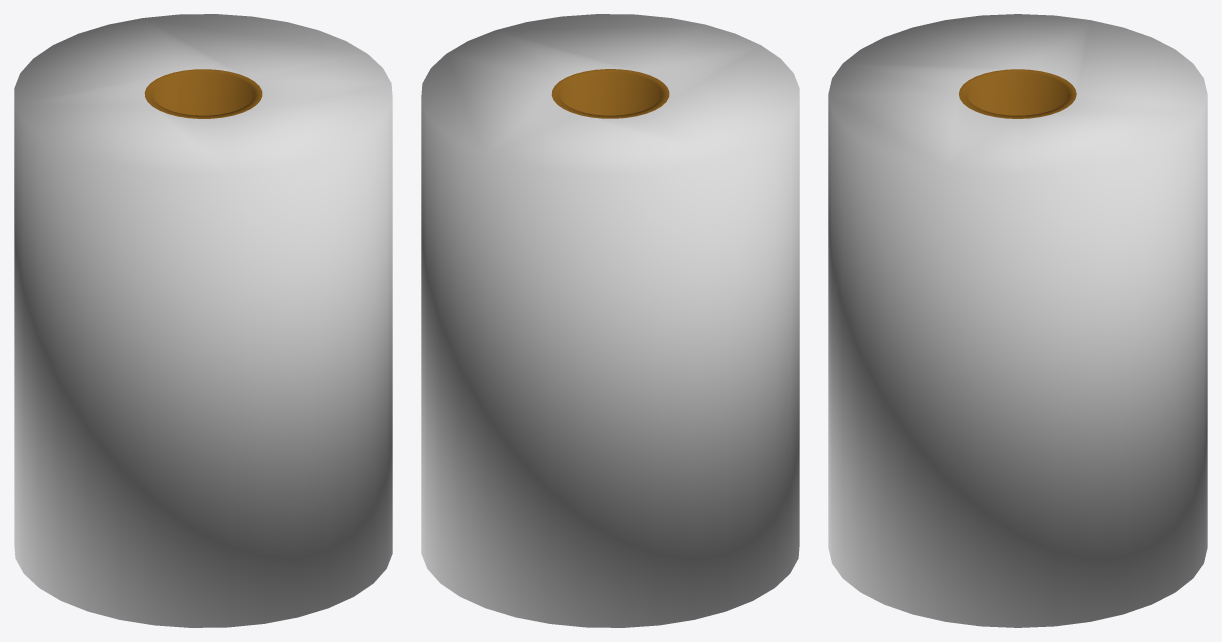
The model's file is papel cocina.fbx.
3 views of the same model, side by side, from view 1: azimuth 30°, elevation 25°; view 2: azimuth 150°, elevation 25°; view 3: azimuth 270°, elevation 25° (orthographic).
Parts seen in each view (by area): view 1: Cylinder; view 2: Cylinder; view 3: Cylinder.
Boxes of the visible parts, <box> form: Cylinder: <box>14,14,392,627</box>; Cylinder: <box>421,14,799,627</box>; Cylinder: <box>828,14,1207,627</box>.
Bounding box in the file's own units: 200 × 265 × 200.
